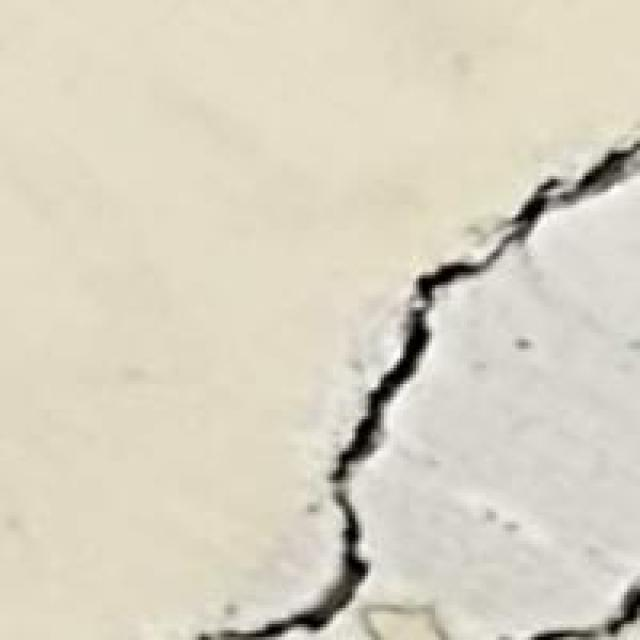Crack: (224, 115, 637, 637)
